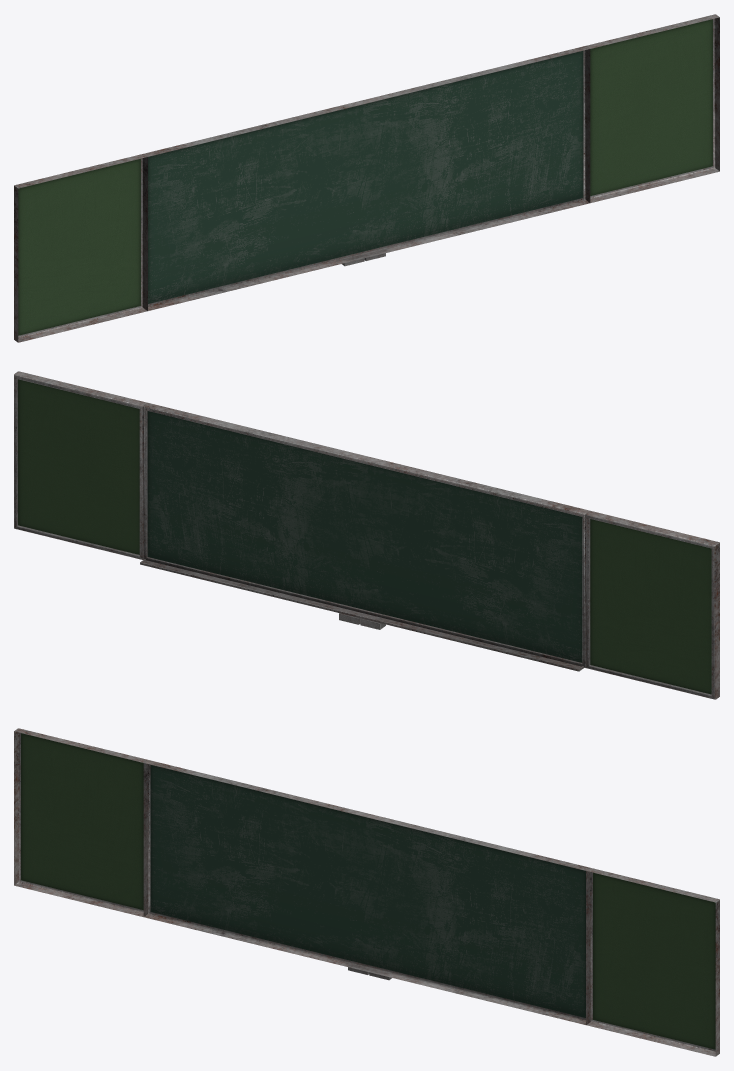
Rendered from Mesh_Env_BlackBoard01.fbx.
3 views of the same model, one above another, from view 1: azimuth 30°, elevation 25°; view 2: azimuth 150°, elevation 25°; view 3: azimuth 330°, elevation 25° (orthographic).
Visible parts, largest first — view 1: Mesh_Env_BlackBoard01; view 2: Mesh_Env_BlackBoard01; view 3: Mesh_Env_BlackBoard01.
Part boxes in pixels (box(x1,y1,x2,y2)): Mesh_Env_BlackBoard01: box(14, 14, 719, 342); Mesh_Env_BlackBoard01: box(14, 371, 719, 699); Mesh_Env_BlackBoard01: box(14, 728, 719, 1056).
Size of the model in its own units: 642 by 141 by 15.34.
